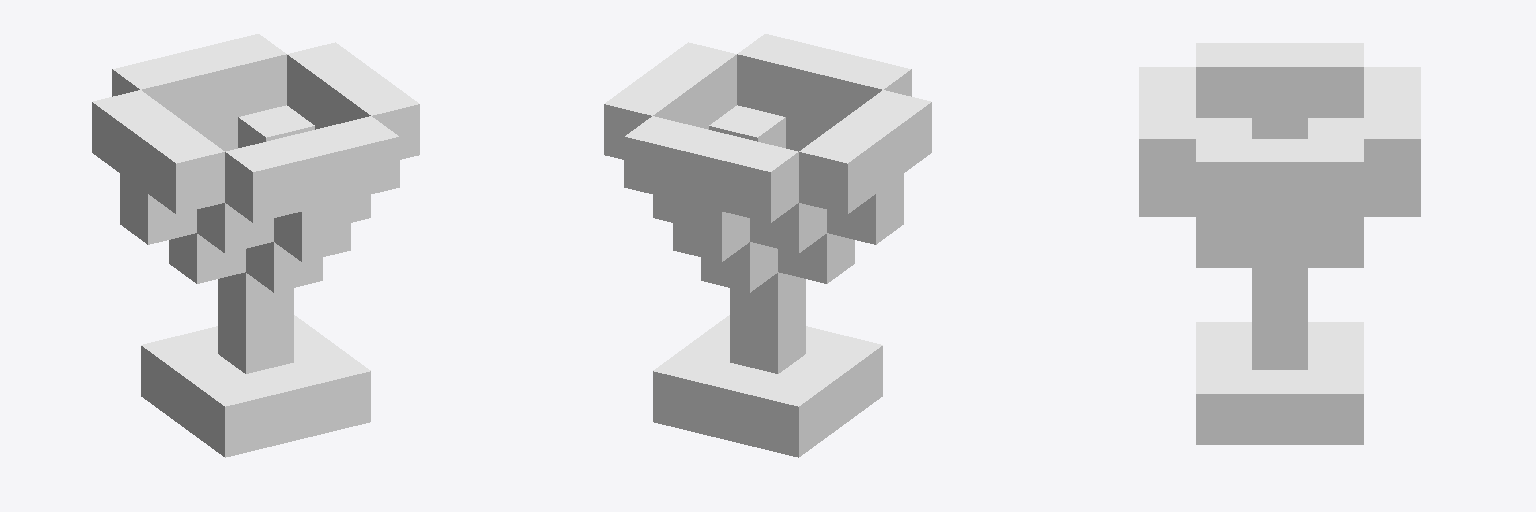
Rendered from Cocktailglass.obj.
3 renders of one model, left to right at view 1: azimuth 30°, elevation 25°; view 2: azimuth 150°, elevation 25°; view 3: azimuth 270°, elevation 25°, orthographic.
Bounding box in the file's own units: 5 × 6 × 5.